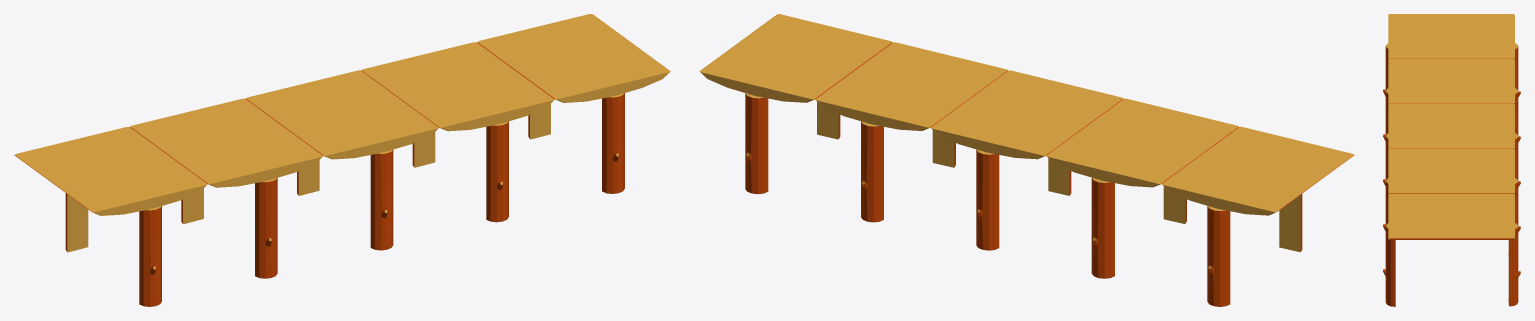
Rendered from plattformLong.fbx.
3 views of the same model, side by side, from view 1: azimuth 30°, elevation 25°; view 2: azimuth 150°, elevation 25°; view 3: azimuth 270°, elevation 25° (orthographic). The views are drawn at different scales.
Parts seen in each view (by area): view 1: plattform.002; view 2: plattform.002; view 3: plattform.002.
Boxes of the visible parts, x1=… form: plattform.002: x1=14, y1=14, x2=670, y2=306; plattform.002: x1=699, y1=14, x2=1354, y2=306; plattform.002: x1=1383, y1=14, x2=1520, y2=306.
Bounding box in the file's own units: 7749 × 1375 × 2009.
1 material, 1 textured.
